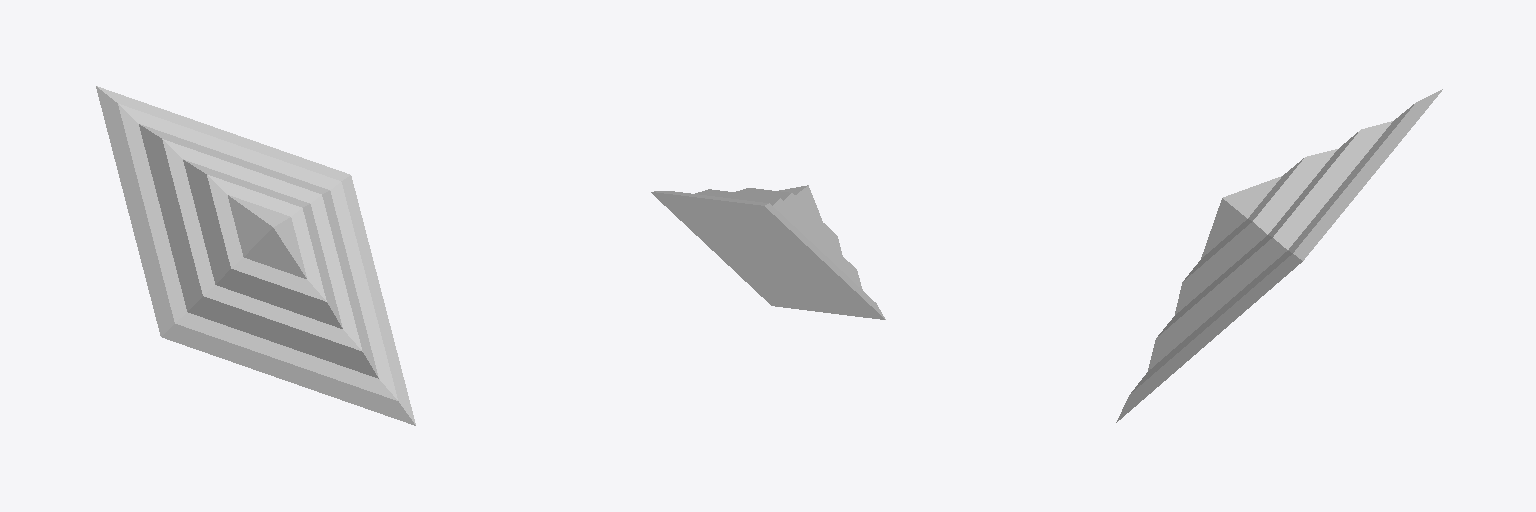
The model's file is zhuangshi.obj.
3 renders of one model, left to right at view 1: azimuth 30°, elevation 25°; view 2: azimuth 150°, elevation 25°; view 3: azimuth 270°, elevation 25°, orthographic.
Visible parts, largest first — view 1: polySurface529 polySurface462; view 2: polySurface529 polySurface462; view 3: polySurface529 polySurface462.
Part boxes in pixels (bbox=[...]): polySurface529 polySurface462: bbox=[96, 86, 415, 425]; polySurface529 polySurface462: bbox=[651, 185, 885, 319]; polySurface529 polySurface462: bbox=[1116, 89, 1442, 422].
Size of the model in its own units: 2.29 by 2.65 by 3.05.